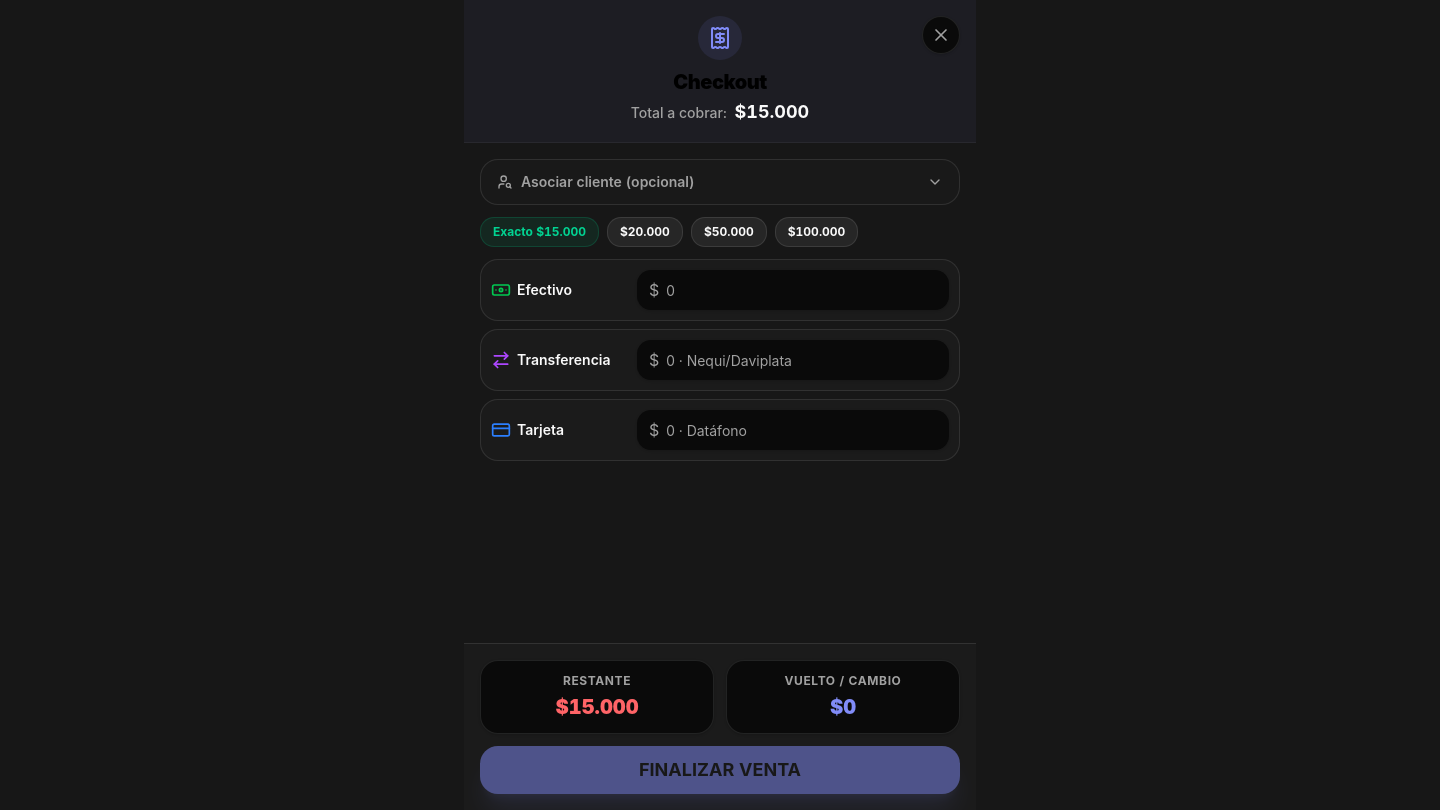
Scenario: CheckoutModal — success stage (climax visual) › renders the success heading after a completed sale
This screenshot has width=1440, height=810.
In the field with placeholder "0": (793, 290) [637,270,949,310], type "15000"
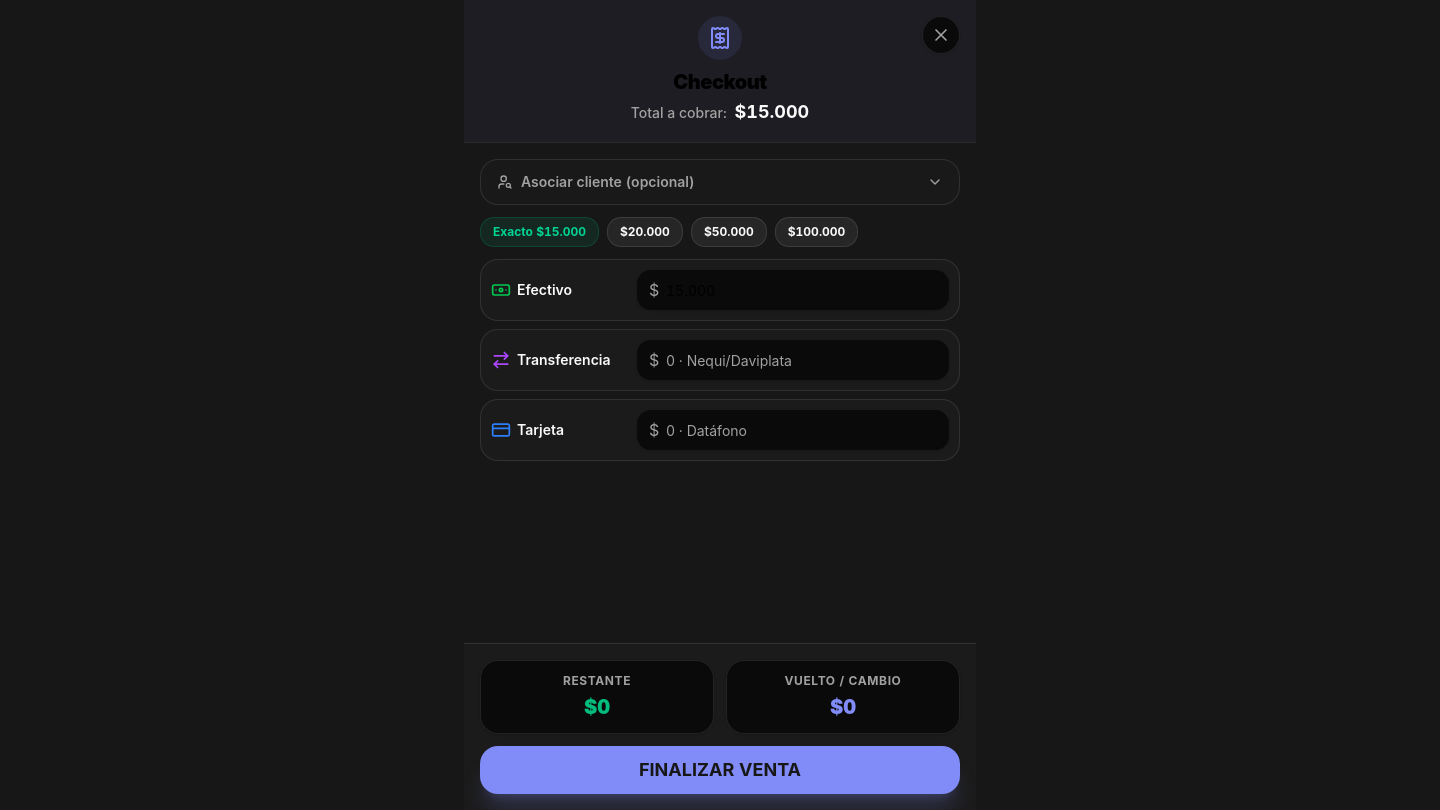
Click the button "FINALIZAR VENTA": (720, 770) [480,746,960,794]
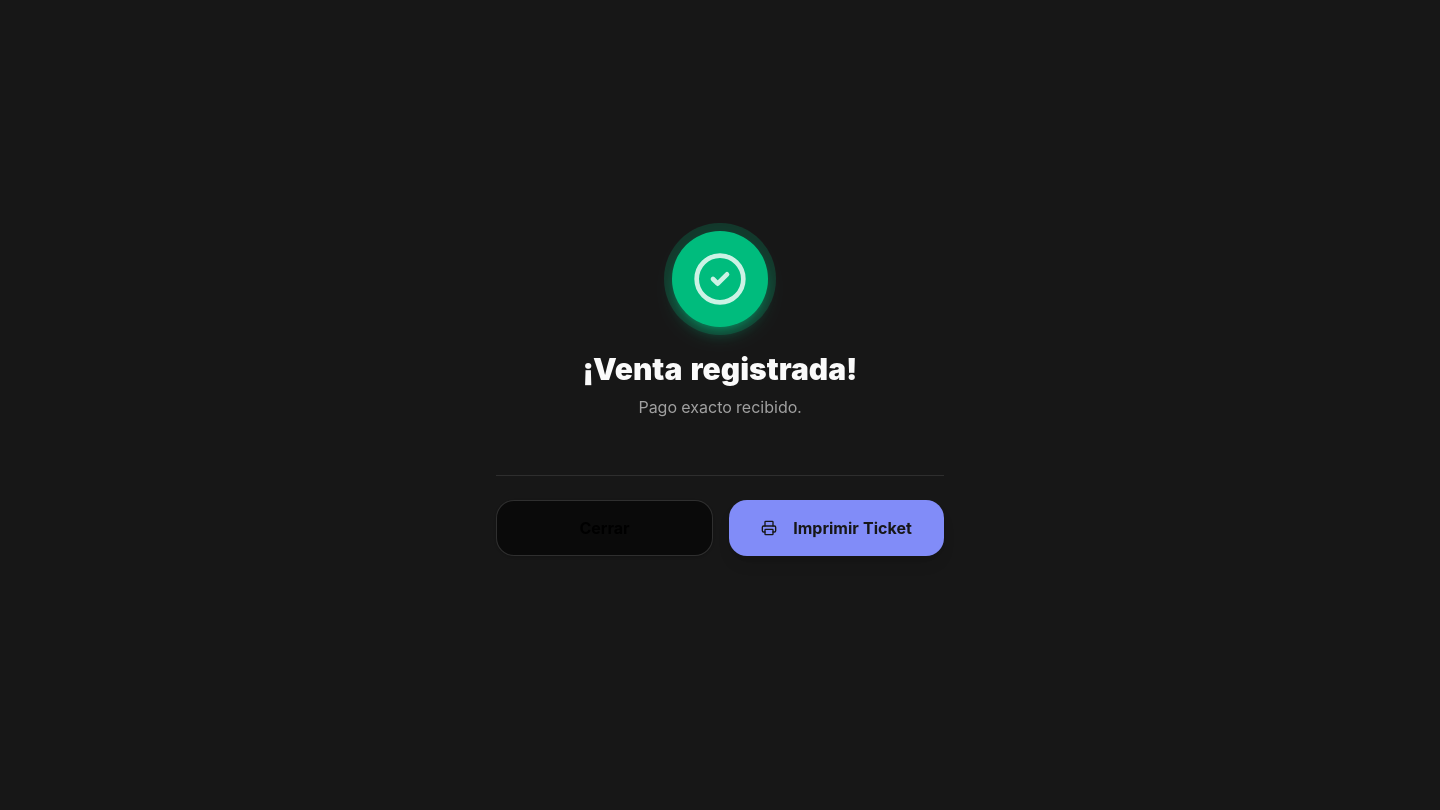
expect the heading "¡Venta registrada!" is shown: met, box [582,350,858,386]
